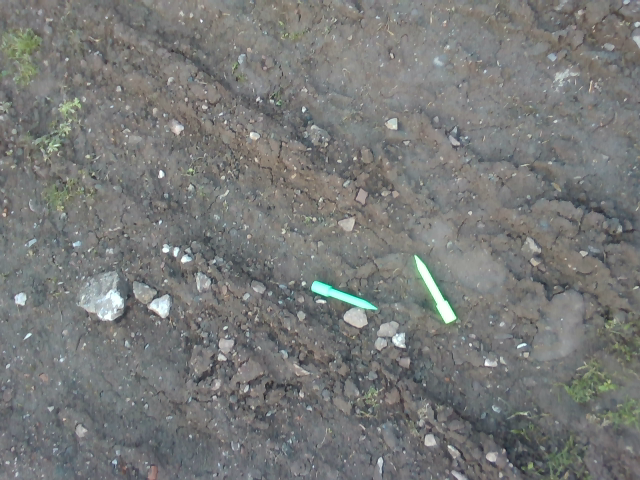Probe: (412, 249, 458, 328), (308, 276, 382, 314)
